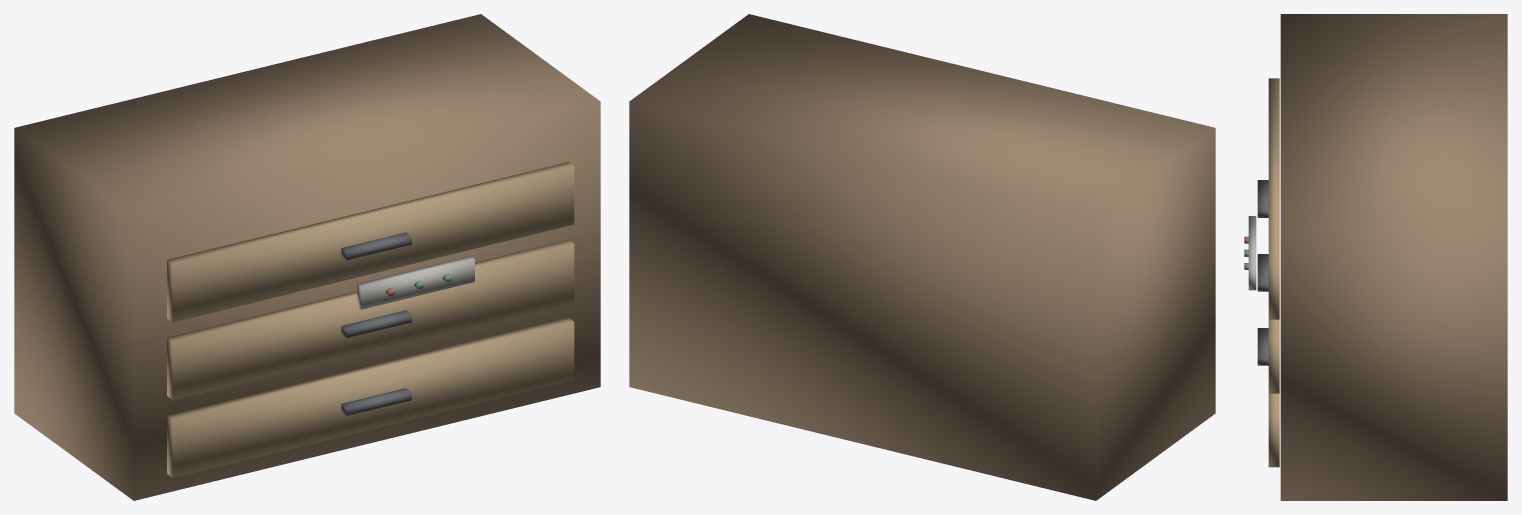
Rendered from residential_dresser__squat.glb.
The picture shows the model from 3 angles, left to right: view 1: azimuth 30°, elevation 25°; view 2: azimuth 150°, elevation 25°; view 3: azimuth 270°, elevation 25°; orthographic projection. The views are drawn at different scales.
Parts seen in each view (by area): view 1: world; view 2: world; view 3: world.
Boxes of the visible parts, x1,y1,x2,y2 form: world: (14,14,600,500); world: (629,14,1215,500); world: (1244,14,1507,500).
Bounding box in the file's own units: 1.26 × 0.7392 × 0.6518.
